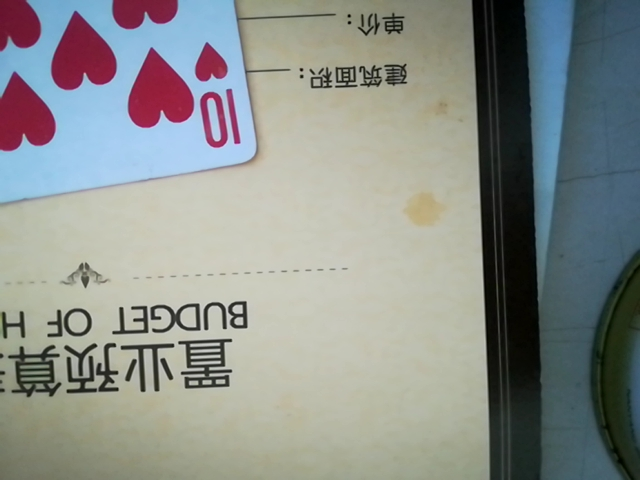hx 10: (0, 0, 258, 217)
